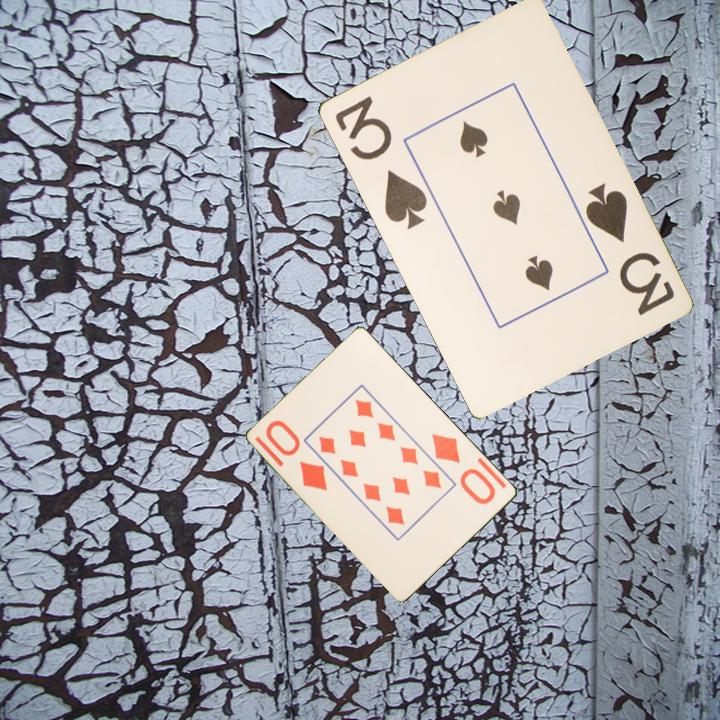10d: (428, 430, 499, 507), (262, 416, 331, 494)
3s: (330, 92, 430, 232), (580, 179, 677, 319)
